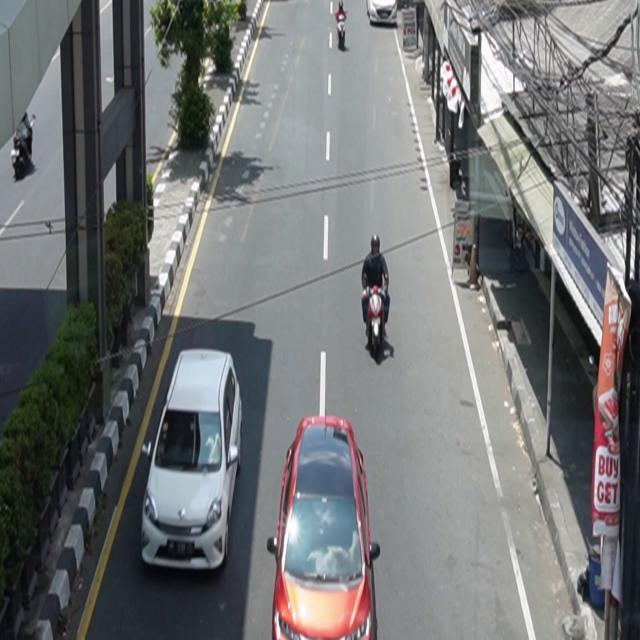car: (268, 416, 382, 640), (141, 348, 243, 573), (367, 1, 398, 26)
